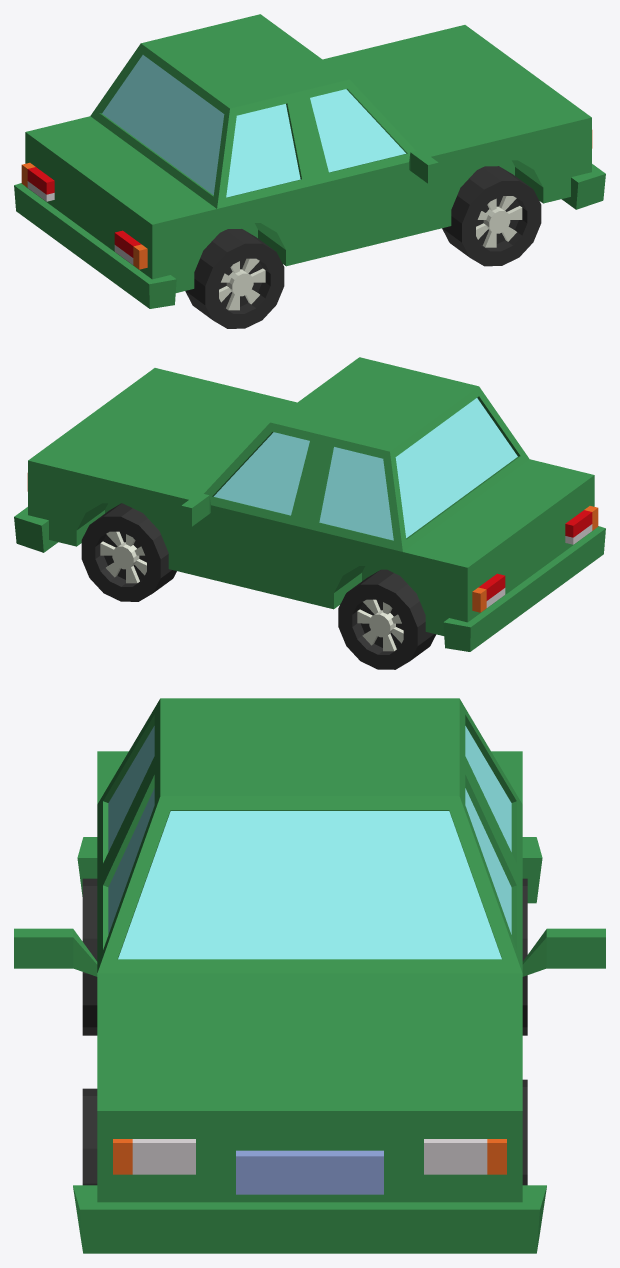
Rendered from car.glb.
3 renders of one model, top to bottom at view 1: azimuth 30°, elevation 25°; view 2: azimuth 150°, elevation 25°; view 3: azimuth 270°, elevation 25°, orthographic. The views are drawn at different scales.
Parts seen in each view (by area): view 1: car, front_right_wheel, back_right_wheel, rear_lights, retros; view 2: car, back_left_wheel, front_left_wheel, rear_lights, retros; view 3: car, plate, retros, front_lights, back_right_wheel, front_right_wheel, back_left_wheel.
Boxes of the visible parts, <box> form: car: <box>14,14,605,308</box>; front_right_wheel: <box>442,166,541,266</box>; back_right_wheel: <box>185,229,284,328</box>; rear_lights: <box>21,162,147,269</box>; retros: <box>409,149,438,183</box>; car: <box>14,357,605,651</box>; back_left_wheel: <box>338,569,436,669</box>; front_left_wheel: <box>81,503,176,601</box>; rear_lights: <box>472,506,598,612</box>; retros: <box>181,493,210,526</box>; car: <box>73,698,546,1253</box>; plate: <box>236,1150,383,1194</box>; retros: <box>14,928,605,976</box>; front_lights: <box>113,1139,506,1174</box>; back_right_wheel: <box>82,878,97,1035</box>; front_right_wheel: <box>82,1088,97,1185</box>; back_left_wheel: <box>522,878,527,1035</box>.
Bounding box in the file's own units: 3.58 × 1.51 × 2.4.
